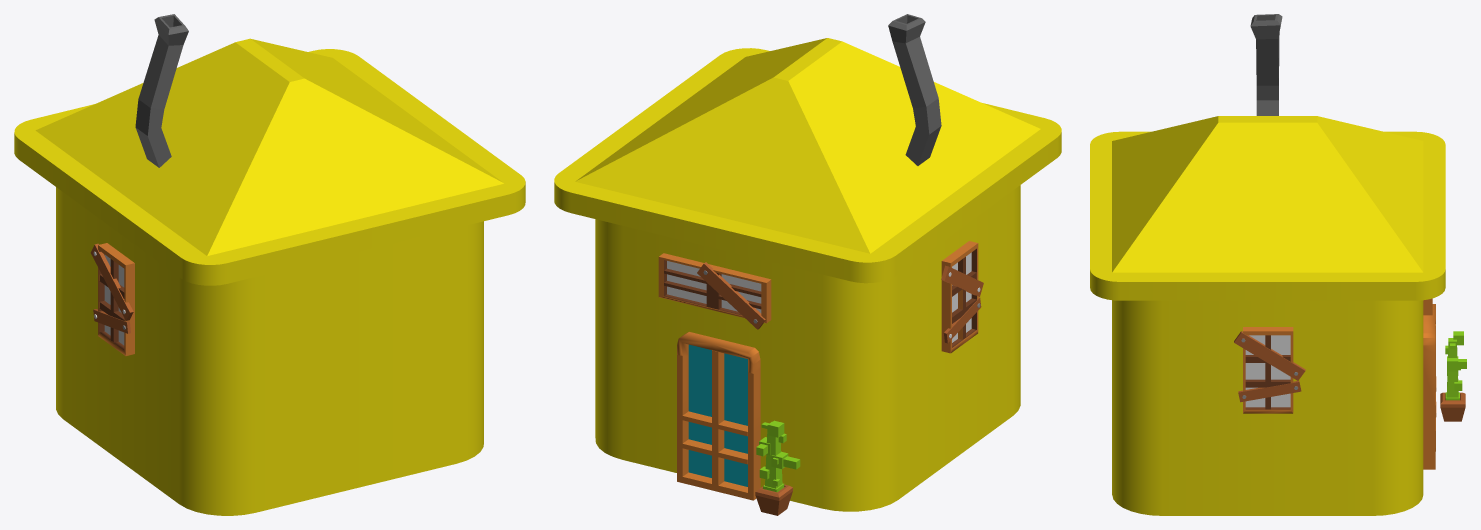
File: mono_daha_kucuk_ev.fbx
The picture shows the model from 3 angles, left to right: view 1: azimuth 30°, elevation 25°; view 2: azimuth 150°, elevation 25°; view 3: azimuth 270°, elevation 25°; orthographic projection. The views are drawn at different scales.
Parts seen in each view (by area): view 1: Cube, Cube.001, Cube.028, Cube.002; view 2: Cube, Cube.027, Cube.001, Cube.009, Cube.028, Cube.008, Cube.010, Cube.006, Cube.002; view 3: Cube, Cube.007, Cube.001, Cube.027, Cube.004, Cube.008, Cube.005, Cube.006.
Part boxes in pixels (x1,y1,x2,y2): Cube: [14, 38, 525, 515]; Cube.001: [135, 14, 188, 167]; Cube.028: [98, 243, 134, 355]; Cube.002: [90, 243, 133, 320]; Cube: [554, 38, 1061, 511]; Cube.027: [677, 332, 760, 500]; Cube.001: [888, 14, 941, 165]; Cube.009: [658, 253, 771, 323]; Cube.028: [941, 241, 978, 353]; Cube.008: [756, 420, 800, 492]; Cube.010: [697, 262, 765, 329]; Cube.006: [755, 484, 792, 515]; Cube.002: [941, 265, 983, 296]; Cube: [1090, 116, 1445, 515]; Cube.007: [1243, 327, 1293, 413]; Cube.001: [1250, 14, 1282, 115]; Cube.027: [1423, 304, 1436, 469]; Cube.004: [1234, 331, 1305, 380]; Cube.008: [1445, 331, 1466, 400]; Cube.005: [1238, 380, 1301, 402]; Cube.006: [1440, 392, 1465, 421].
Bounding box in the file's own units: 17.39 × 21.12 × 18.43.
